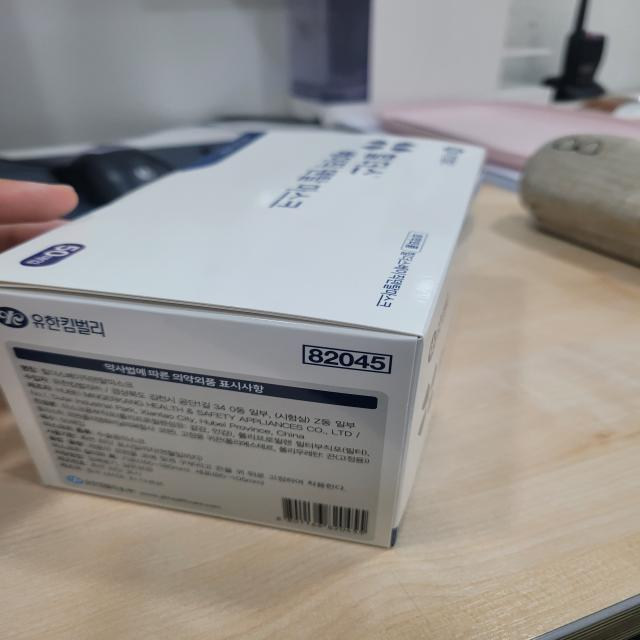mask: (0, 88, 502, 568)
